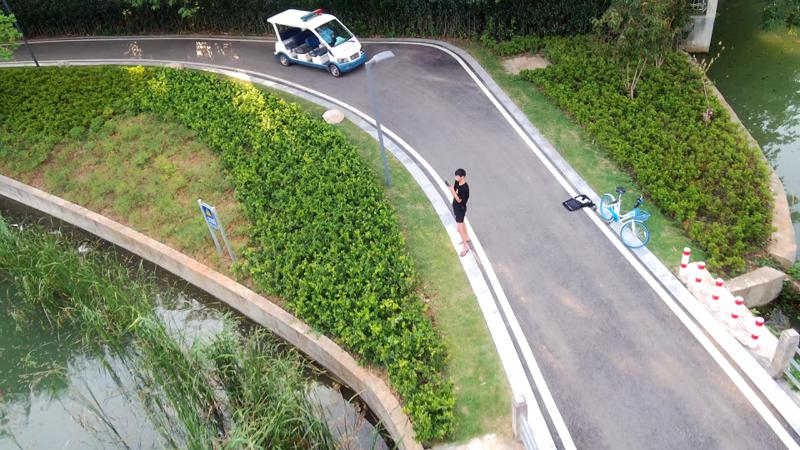passerby: (444, 167, 472, 258)
